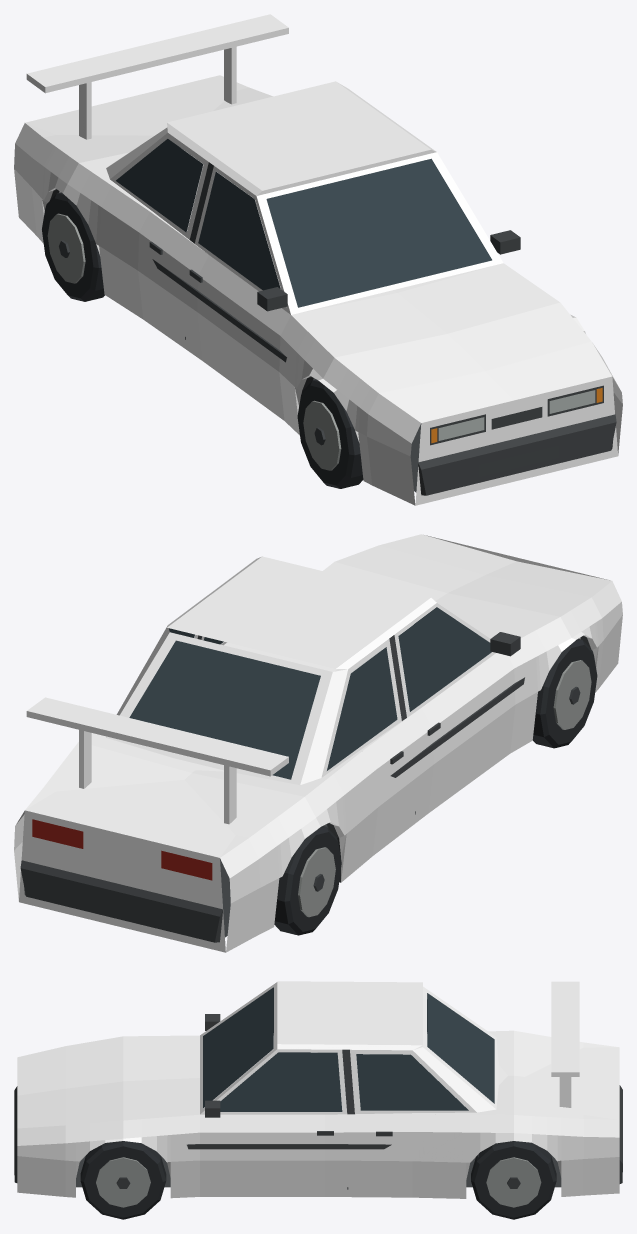
Rendered from hoshino_amagumo_corrida_ii.glb.
3 views of the same model, one above another, from view 1: azimuth 30°, elevation 25°; view 2: azimuth 150°, elevation 25°; view 3: azimuth 270°, elevation 25° (orthographic). The views are drawn at different scales.
Parts seen in each view (by area): view 1: hoshino_amagumo_corrida_ii; view 2: hoshino_amagumo_corrida_ii; view 3: hoshino_amagumo_corrida_ii.
Part boxes in pixels (<box>): hoshino_amagumo_corrida_ii: <box>14,14,622,505</box>; hoshino_amagumo_corrida_ii: <box>14,534,622,952</box>; hoshino_amagumo_corrida_ii: <box>14,981,622,1219</box>.
Size of the model in its own units: 1.77 by 1.39 by 4.74.
8 materials, 1 textured.
